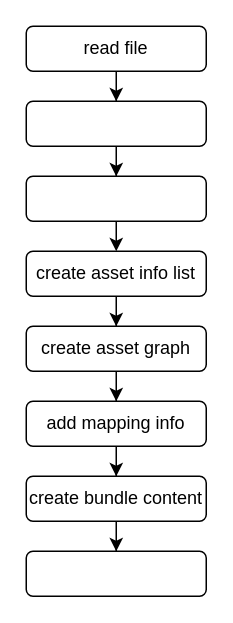
Image size: 233x623. Some labels were removed from this diagram. Here are the shapes that lost their labels. From the top down, the centre of each, then its label:
the point at 115,123: parse code to ast
the point at 115,198: find import syntax
the point at 115,573: write file
